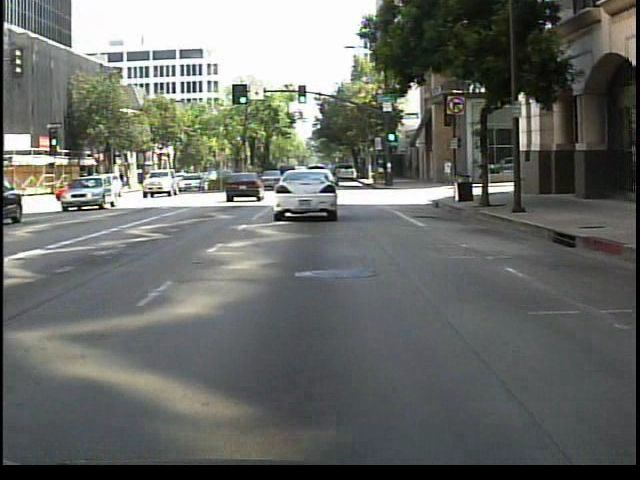person: (441, 151, 456, 190)
